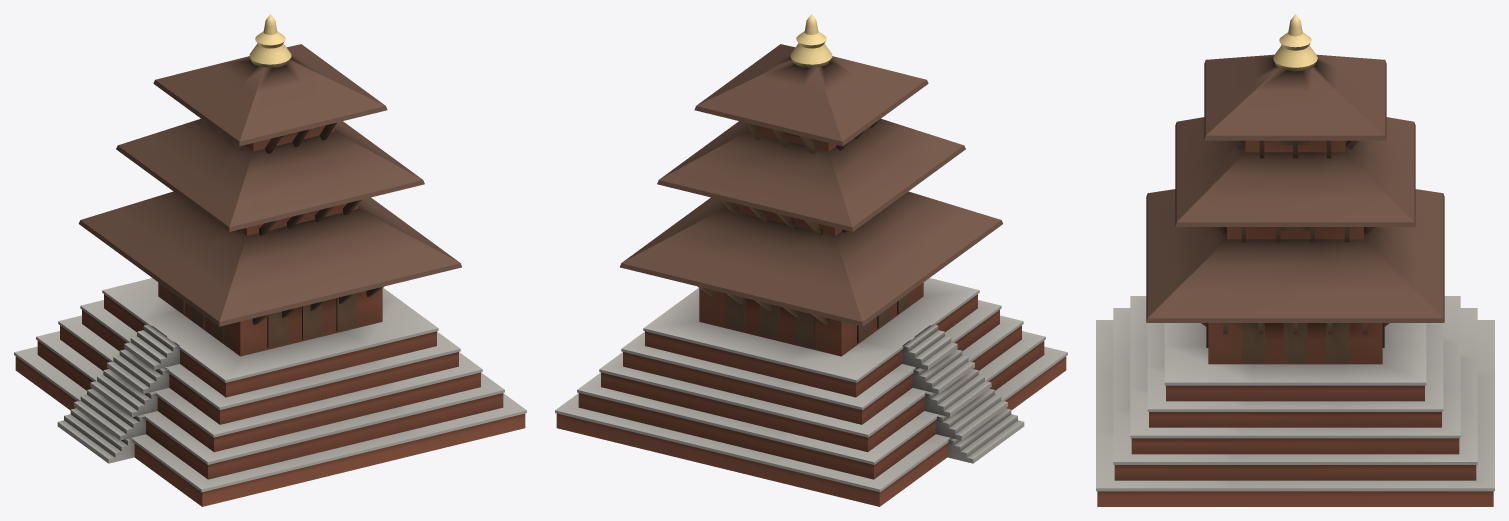
The model's file is trailokya-mohan.glb.
3 views of the same model, side by side, from view 1: azimuth 30°, elevation 25°; view 2: azimuth 150°, elevation 25°; view 3: azimuth 270°, elevation 25° (orthographic). The views are drawn at different scales.
Visible parts, largest first — view 1: model-brick, model-tile, model-wood, model-gold; view 2: model-brick, model-tile, model-wood, model-gold; view 3: model-brick, model-tile, model-wood, model-gold.
Part boxes in pixels (x1,y1,x2,y2): model-brick: (14, 125, 526, 506); model-tile: (78, 44, 461, 326); model-wood: (172, 119, 384, 348); model-gold: (249, 14, 291, 67); model-brick: (555, 125, 1067, 506); model-tile: (620, 44, 1003, 326); model-wood: (697, 119, 909, 348); model-gold: (790, 14, 832, 67); model-brick: (1096, 140, 1494, 506); model-tile: (1146, 54, 1444, 322); model-wood: (1201, 140, 1389, 362); model-gold: (1273, 14, 1317, 71).
Bounding box in the file's own units: 16.25 × 17.1 × 15.1.
Materials: 4 (4 with a texture image).
